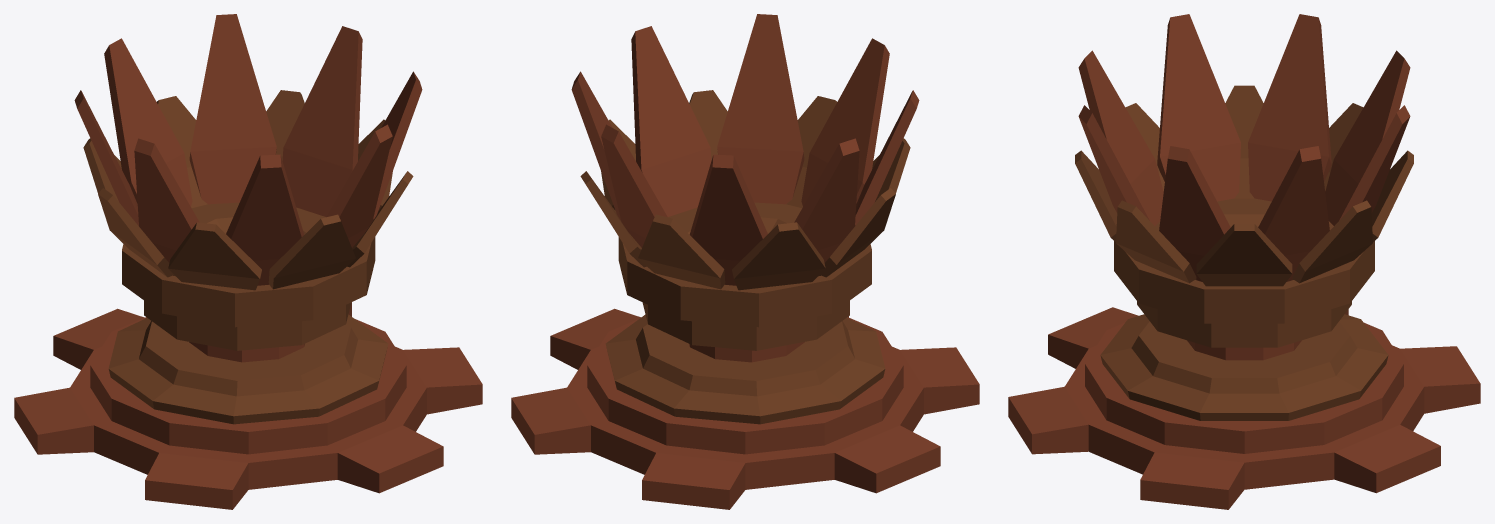
Rendered from Teleporter2.glb.
3 views of the same model, side by side, from view 1: azimuth 30°, elevation 25°; view 2: azimuth 150°, elevation 25°; view 3: azimuth 270°, elevation 25° (orthographic).
Parts seen in each view (by area): view 1: Teleporter2, Teleporter2_Top; view 2: Teleporter2, Teleporter2_Top; view 3: Teleporter2, Teleporter2_Top.
Part boxes in pixels (x1=…): Teleporter2: x1=14, y1=202, x2=482, y2=509; Teleporter2_Top: x1=74, y1=14, x2=422, y2=290; Teleporter2: x1=511, y1=202, x2=979, y2=509; Teleporter2_Top: x1=571, y1=14, x2=919, y2=290; Teleporter2: x1=1008, y1=198, x2=1480, y2=509; Teleporter2_Top: x1=1075, y1=14, x2=1413, y2=286.
Size of the model in its own units: 1.38 by 1.07 by 1.38.
